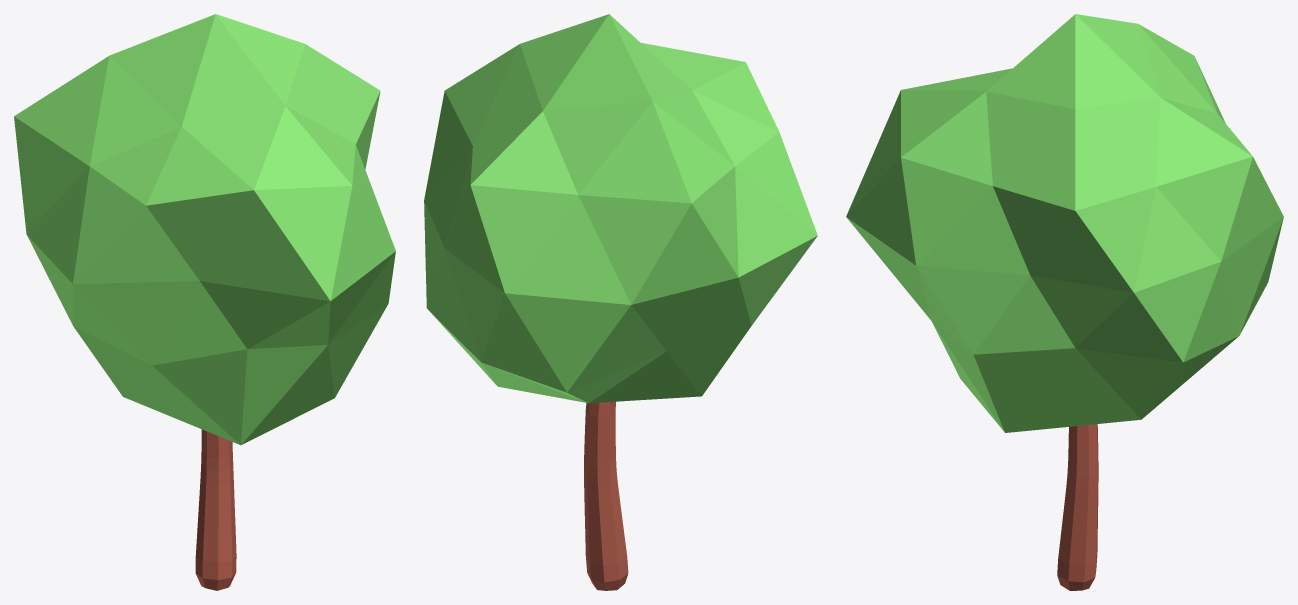
File: world_tree1.fbx
3 views of the same model, side by side, from view 1: azimuth 30°, elevation 25°; view 2: azimuth 150°, elevation 25°; view 3: azimuth 270°, elevation 25° (orthographic).
Visible parts, largest first — view 1: tree2; view 2: tree2; view 3: tree2.
Part boxes in pixels (x1,y1,x2,y2): tree2: (14,14,395,590); tree2: (424,14,817,590); tree2: (846,14,1283,590).
Size of the model in its own units: 588 by 951 by 656.
